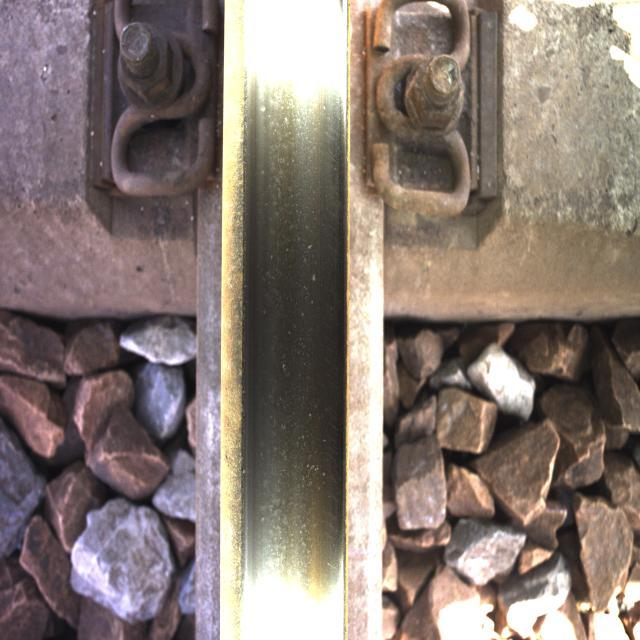break: (252, 63, 342, 622)
